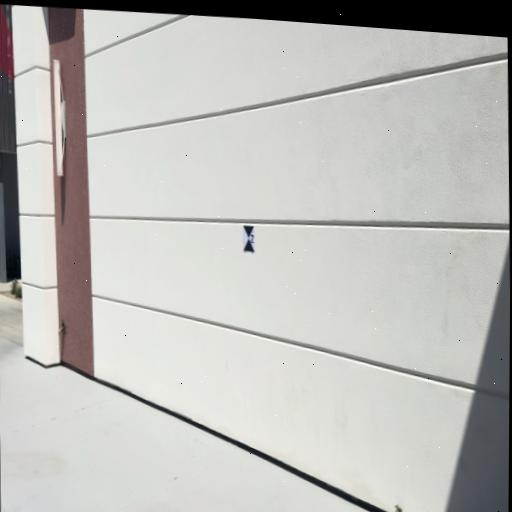target7: (243, 225, 255, 252)
